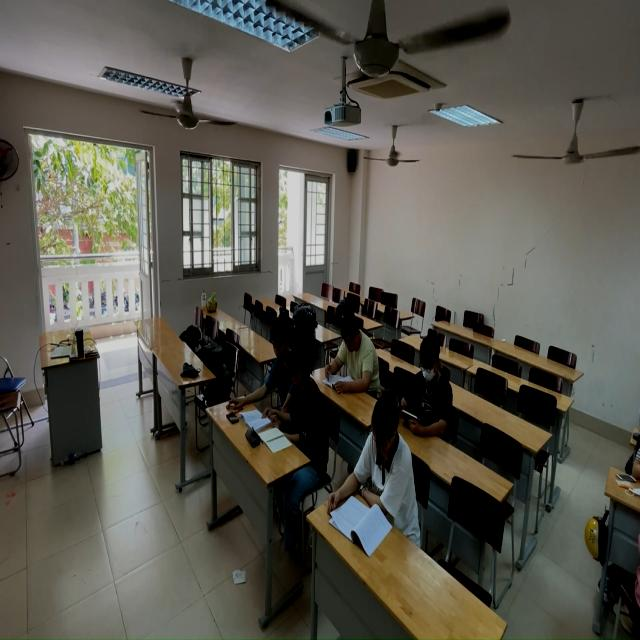read: (329, 386, 423, 570), (230, 316, 297, 419), (278, 347, 327, 478), (399, 334, 458, 437), (321, 311, 382, 395)
